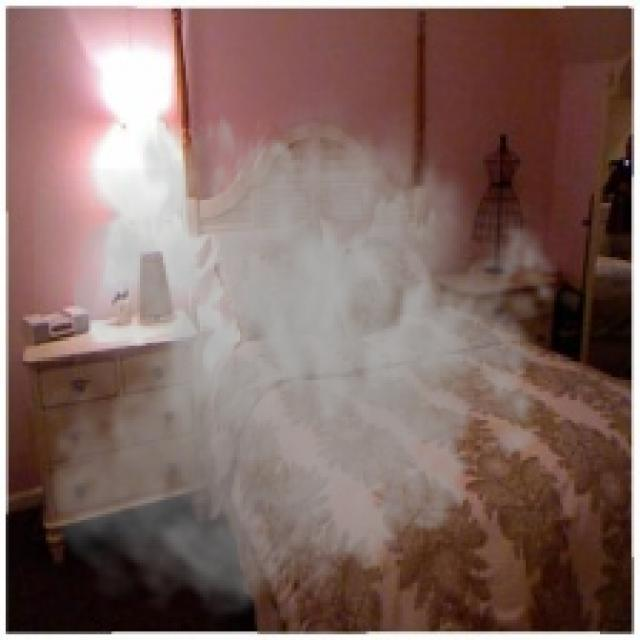smoke: (34, 71, 574, 634)
